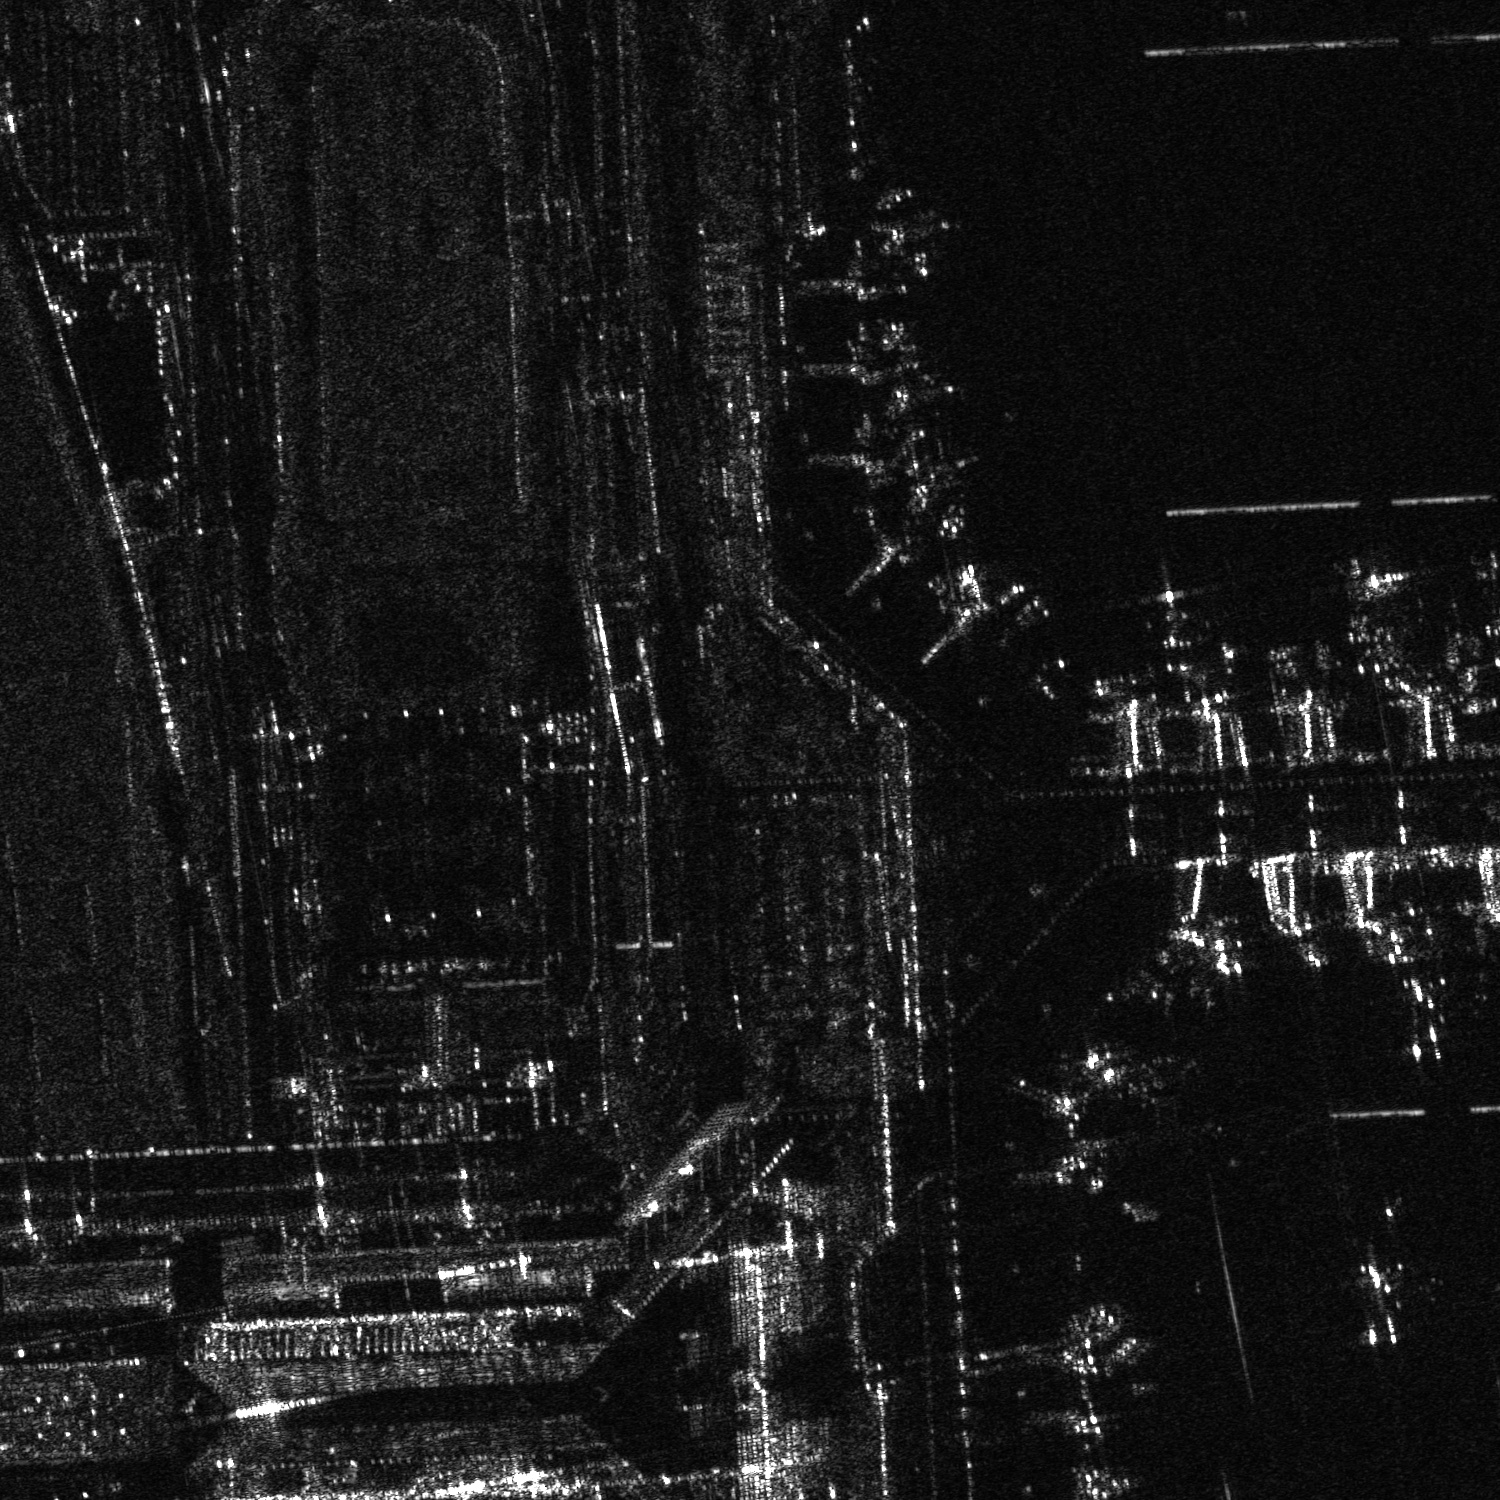A220: (1151, 576, 1220, 654)
A320/321: (1332, 560, 1387, 650), (1468, 545, 1499, 636)
Boeing787: (1376, 971, 1462, 1066)
other: (1321, 1242, 1431, 1348)
